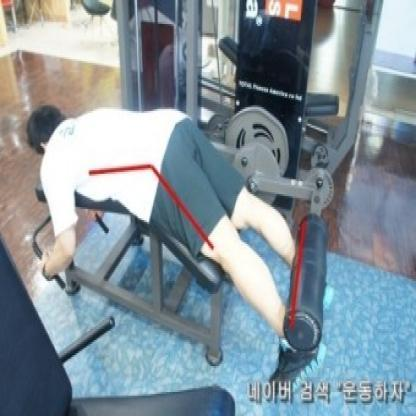reg curl machine: (23, 0, 343, 372)
